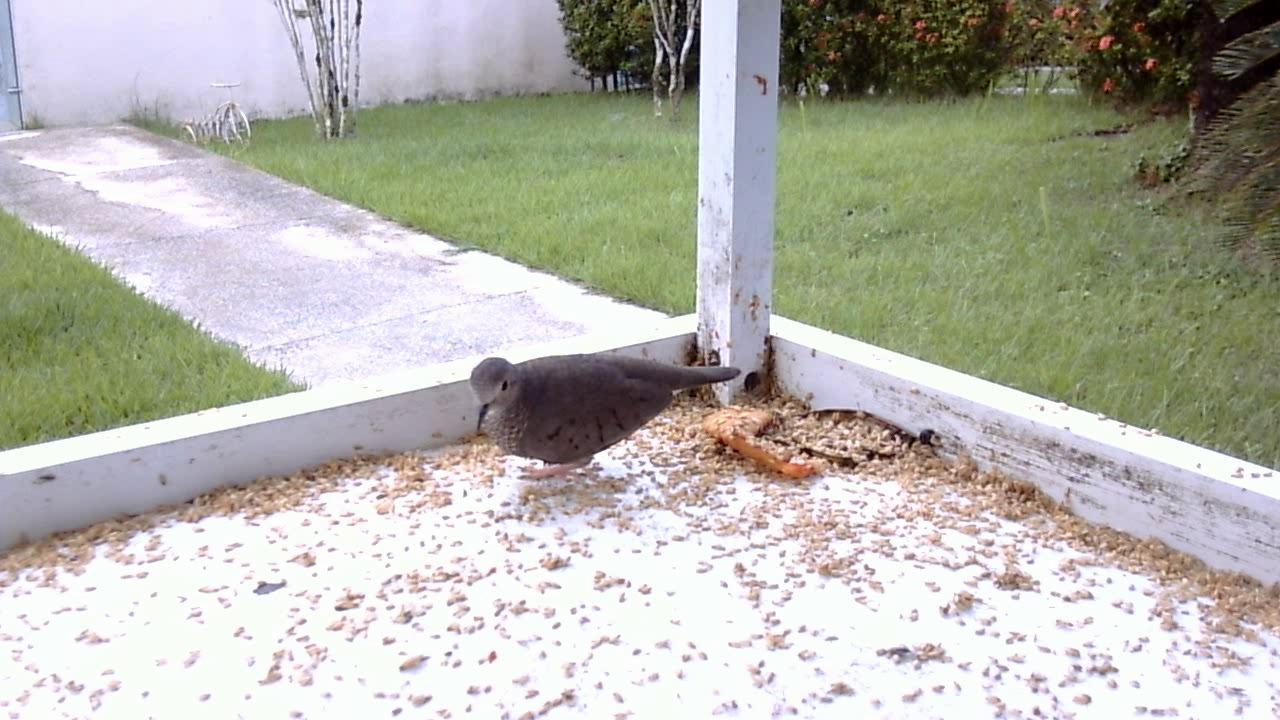rolinha: (466, 340, 748, 482)
